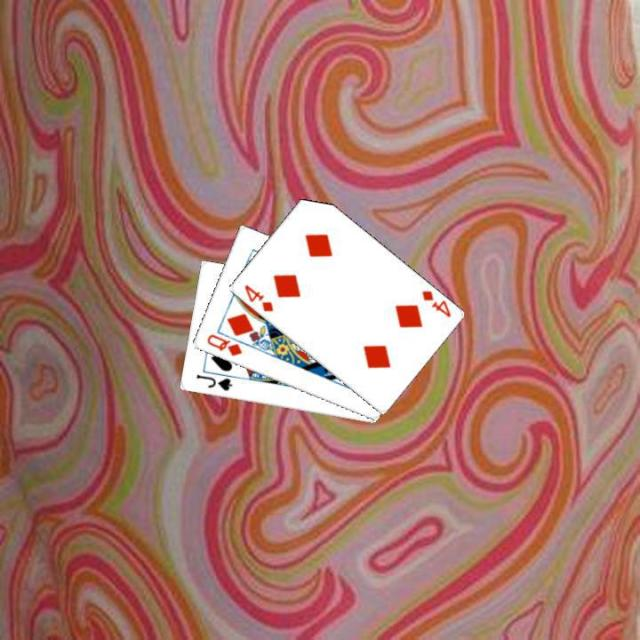4D: (240, 281, 275, 314), (417, 286, 452, 319)
JS: (192, 371, 234, 393)
QD: (202, 331, 244, 358)
